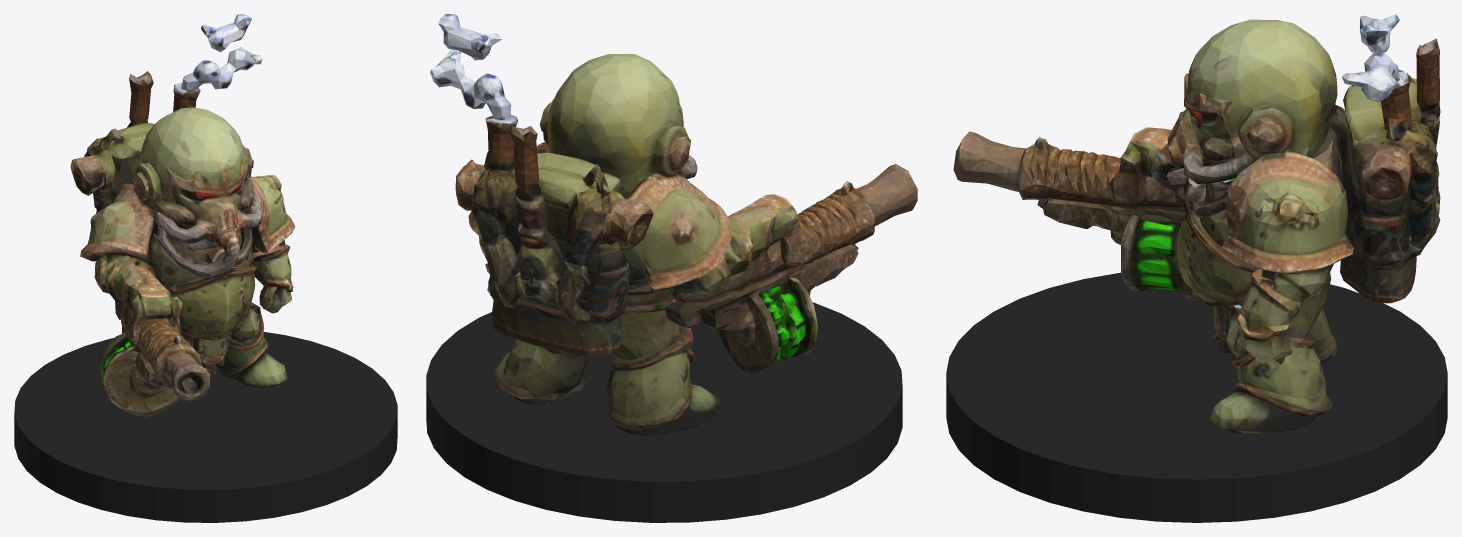
File: plague-marine-blight-launcher.glb
3 views of the same model, side by side, from view 1: azimuth 30°, elevation 25°; view 2: azimuth 150°, elevation 25°; view 3: azimuth 270°, elevation 25° (orthographic). The views are drawn at different scales.
Visible parts, largest first — view 1: figure, base; view 2: figure, base; view 3: figure, base.
Part boxes in pixels (box(x1,y1,x2,y2)): figure: box(70, 14, 295, 417); base: box(14, 332, 397, 522); figure: box(430, 14, 917, 435); base: box(426, 302, 902, 522); figure: box(953, 14, 1440, 433); base: box(946, 272, 1447, 522).
Bounding box in the file's own units: 1.26 × 1.27 × 1.26.
Materials: 2 (1 with a texture image).
